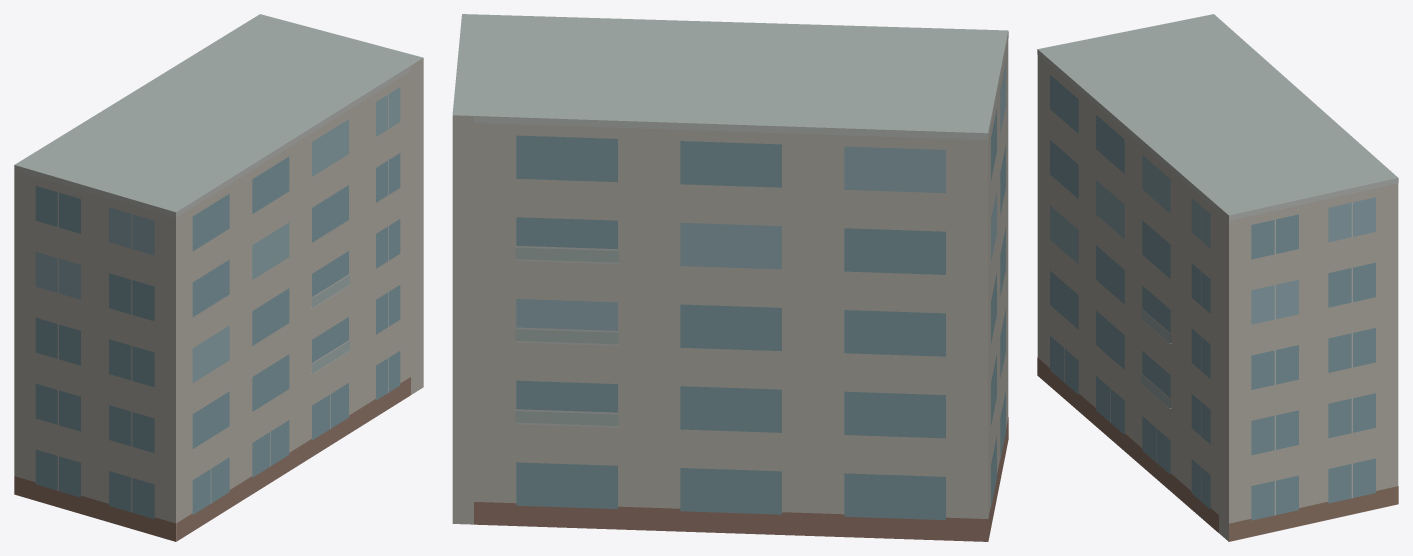
File: survey-upis-32746997.glb
3 renders of one model, left to right at view 1: azimuth 30°, elevation 25°; view 2: azimuth 150°, elevation 25°; view 3: azimuth 270°, elevation 25°, orthographic. The views are drawn at different scales.
Visible parts, largest first — view 1: survey-upis-32746997.tmp; view 2: survey-upis-32746997.tmp; view 3: survey-upis-32746997.tmp.
Part boxes in pixels (box(x1,y1,x2,y2)): survey-upis-32746997.tmp: box(14, 14, 423, 541); survey-upis-32746997.tmp: box(452, 14, 1008, 541); survey-upis-32746997.tmp: box(1037, 14, 1398, 541).
Size of the model in its own units: 18.9 by 14.27 by 14.31.
